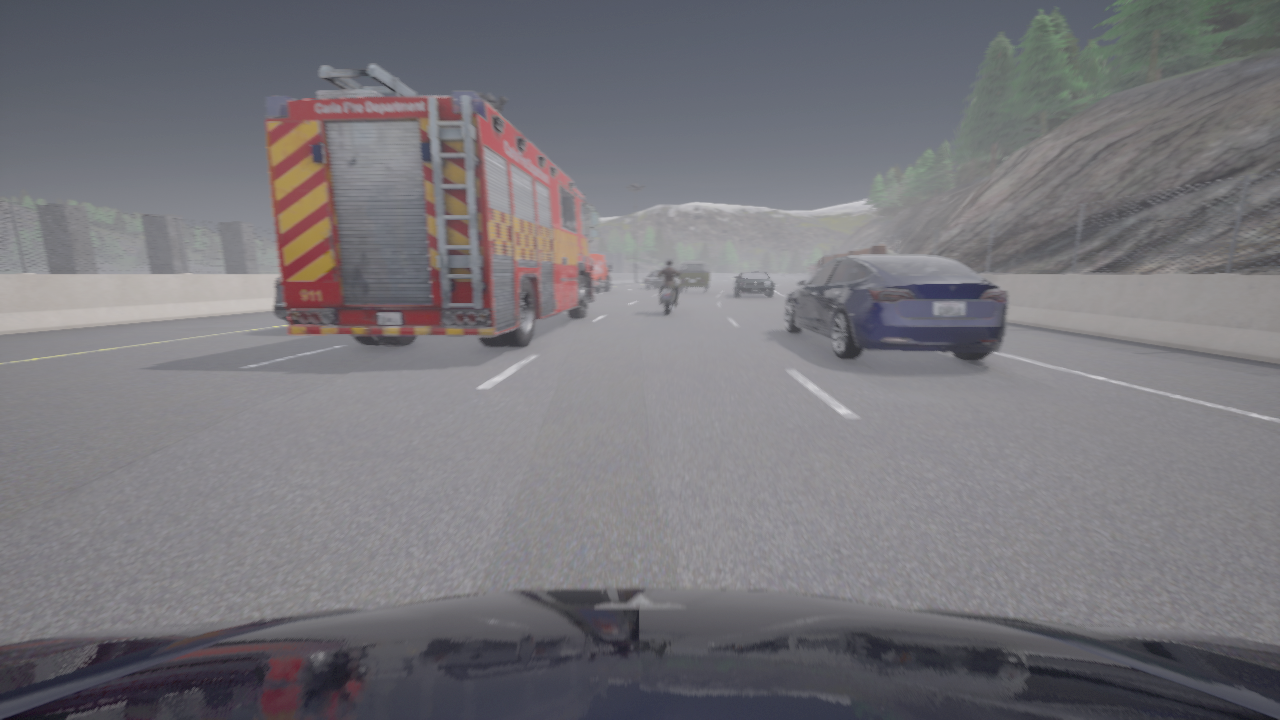cyclist: (0, 588, 1279, 719), (265, 64, 598, 347), (784, 255, 1008, 361), (678, 261, 711, 292), (734, 272, 773, 296), (657, 271, 678, 315), (590, 253, 612, 292), (273, 276, 289, 324), (644, 272, 676, 288)
